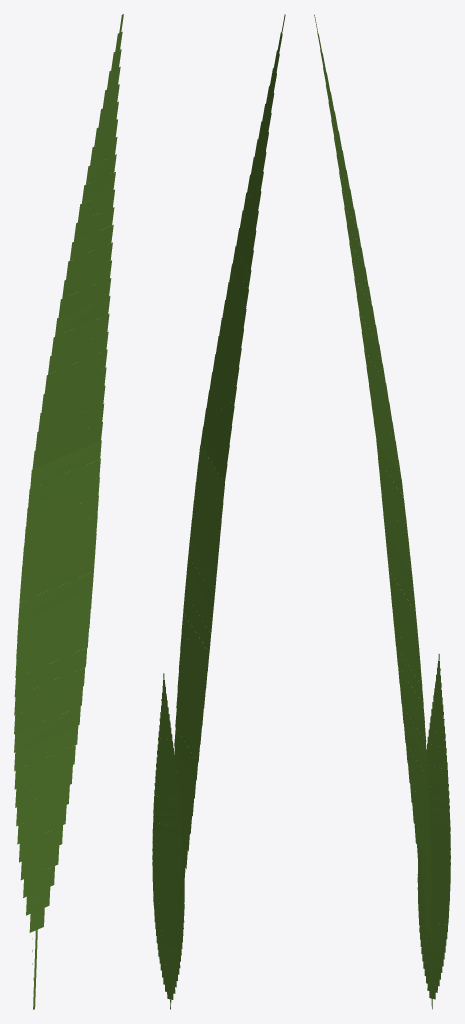
File: maize_002_day_030.dae
3 views of the same model, side by side, from view 1: azimuth 90°, elevation 25°; view 2: azimuth 150°, elevation 25°; view 3: azimuth 330°, elevation 25° (orthographic). The views are drawn at different scales.
Parts seen in each view (by area): view 1: node; view 2: node; view 3: node.
Boxes of the visible parts, x1,y1,x2,y2 form: node: [14, 14, 123, 1009]; node: [152, 14, 285, 1009]; node: [314, 14, 450, 1009].
Bounding box in the file's own units: 0.0166 × 0.173 × 0.0167.
Materials: 1 (1 with a texture image).
